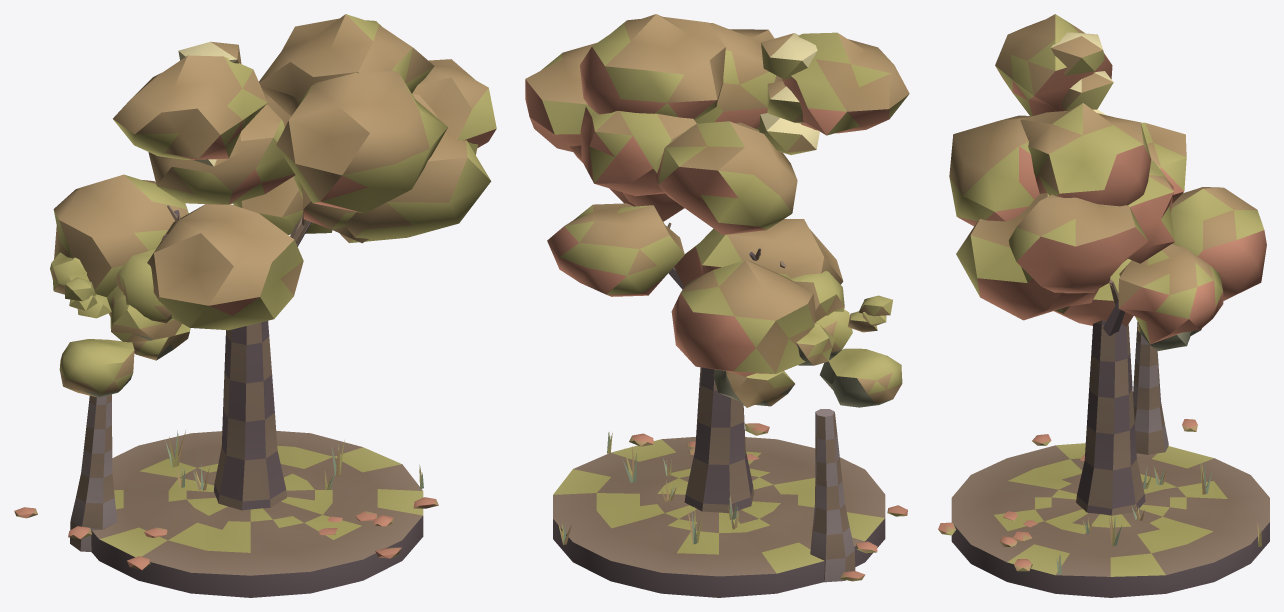
Rendered from pastoral_trees_v3.glb.
The picture shows the model from 3 angles, left to right: view 1: azimuth 30°, elevation 25°; view 2: azimuth 150°, elevation 25°; view 3: azimuth 270°, elevation 25°; orthographic projection. The views are drawn at different scales.
Parts seen in each view (by area): view 1: Body; view 2: Body; view 3: Body.
Boxes of the visible parts, box(x1,y1,x2,y2) form: Body: box(14, 14, 496, 597); Body: box(525, 14, 909, 597); Body: box(938, 14, 1269, 597).
Size of the model in its own units: 0.5883 by 0.7182 by 0.4559.
